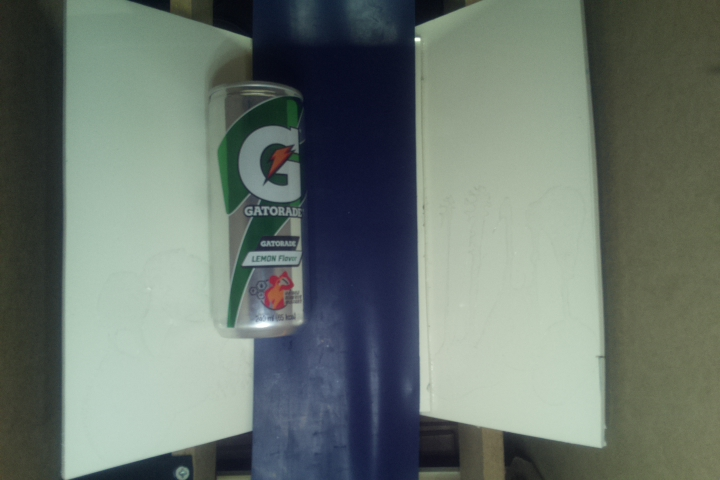can: (203, 83, 313, 340)
